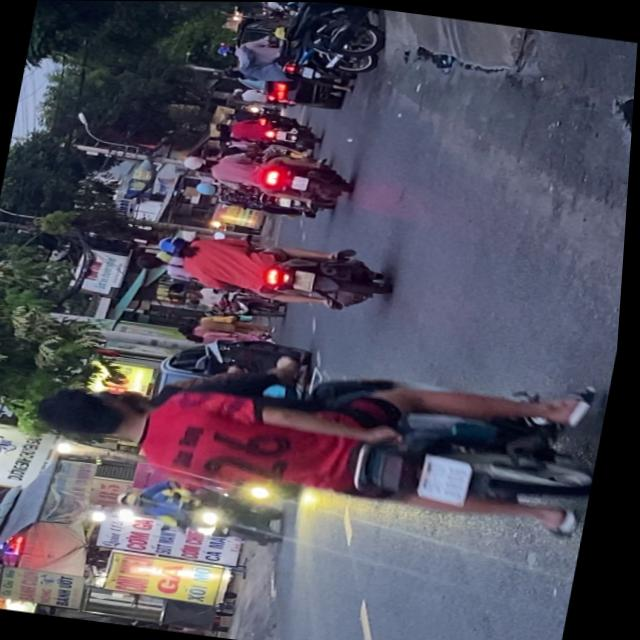helmet: (158, 232, 198, 258), (183, 154, 215, 172)
licenseplate: (27, 318, 617, 542), (132, 220, 400, 317), (179, 140, 360, 204)
motorcyclist: (37, 377, 158, 449), (136, 250, 173, 272)
nohelmet: (422, 454, 478, 504), (295, 270, 318, 290), (293, 174, 311, 189)
